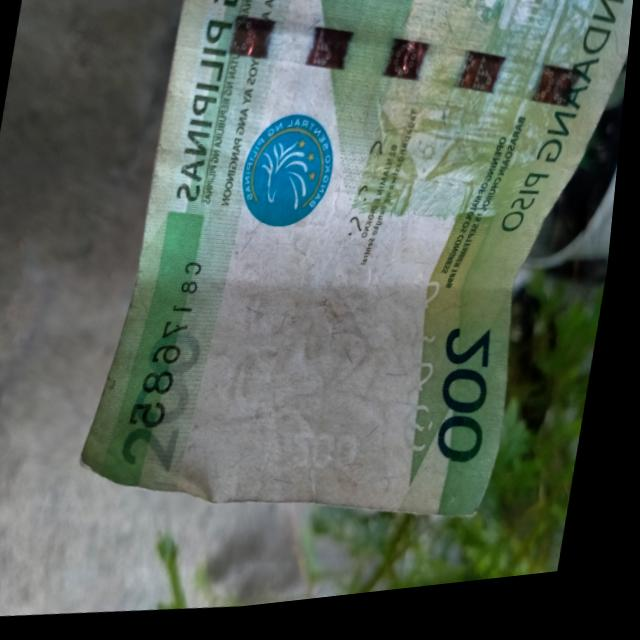security_thread: (158, 0, 629, 160)
see_through_mark: (391, 271, 477, 465)
serial_number: (136, 263, 210, 447)
value_watermark: (296, 426, 375, 490)
watermark: (174, 249, 421, 478)
